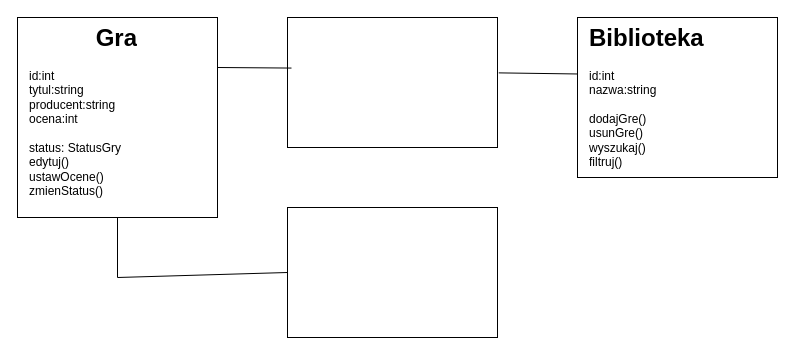
Image size: 795x355. Some labels were removed from this diagram. The box of each missing label's shape, as (x1, y1, x2, y2) in pixels:
Gatunek id:int nazwa:string dodajGatunek(): (286, 16, 498, 148)
ModulStatystyk - policzUkonczone() obliczSrednia(): (286, 206, 498, 338)
